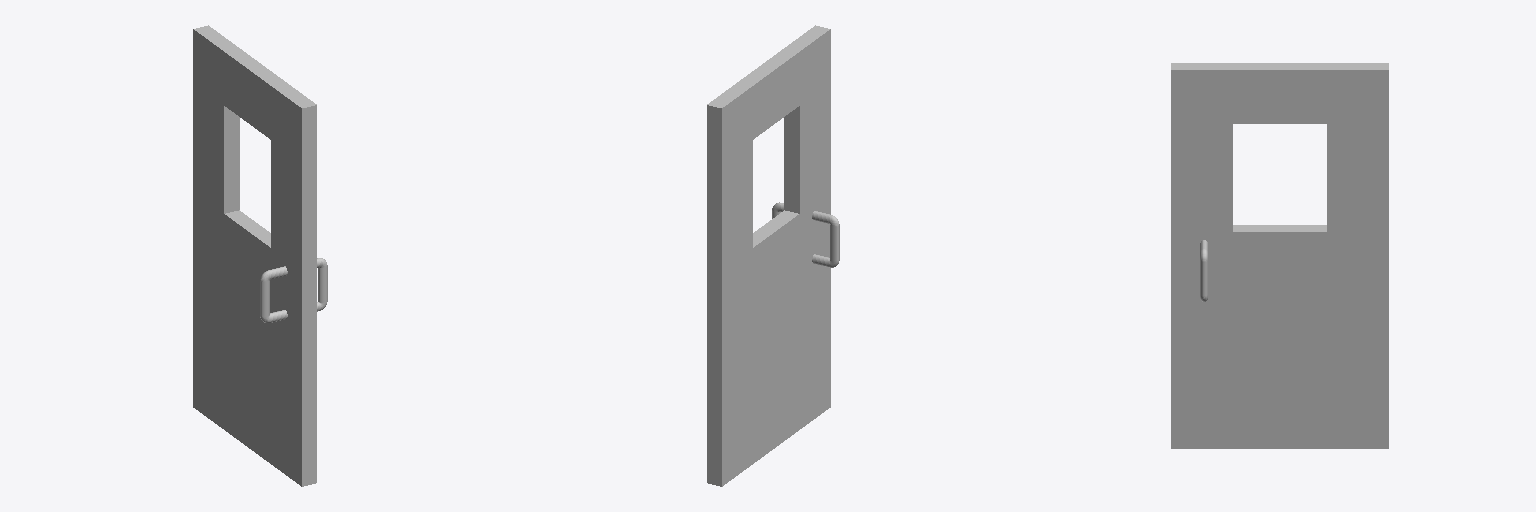
The model's file is puerta_ext_1.obj.
3 renders of one model, left to right at view 1: azimuth 30°, elevation 25°; view 2: azimuth 150°, elevation 25°; view 3: azimuth 270°, elevation 25°, orthographic.
Parts seen in each view (by area): view 1: Cubo.021_Cubo.023; view 2: Cubo.021_Cubo.023; view 3: Cubo.021_Cubo.023.
Boxes of the visible parts, box(x1,y1,x2,y2) form: Cubo.021_Cubo.023: box(193, 25, 327, 486); Cubo.021_Cubo.023: box(707, 25, 839, 486); Cubo.021_Cubo.023: box(1171, 63, 1388, 448).
Bounding box in the file's own units: 0.4385 × 2.38 × 1.24.